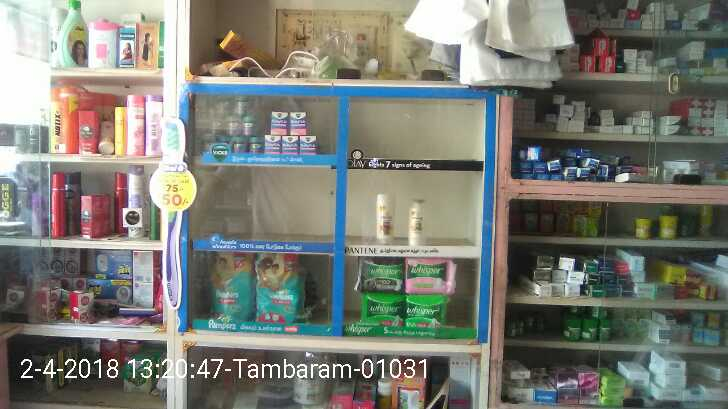vicks: (213, 95, 315, 153)
